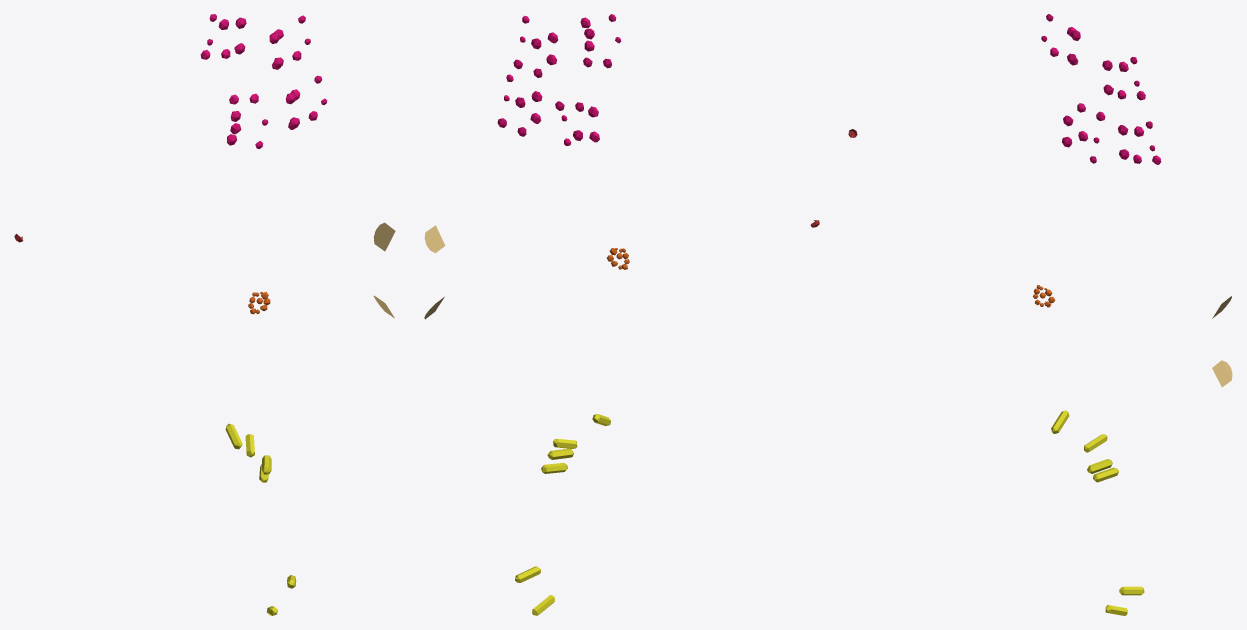
The model's file is house_light.fbx.
The picture shows the model from 3 angles, left to right: view 1: azimuth 30°, elevation 25°; view 2: azimuth 150°, elevation 25°; view 3: azimuth 330°, elevation 25°; orthographic projection. The views are drawn at different scales.
Visible parts, largest first — view 1: Cylinder002.005; view 2: Cylinder002.005; view 3: Cylinder002.005.
Part boxes in pixels (x1,y1,x2,y2): Cylinder002.005: [14, 14, 395, 615]; Cylinder002.005: [424, 14, 819, 615]; Cylinder002.005: [848, 14, 1232, 615].
Bounding box in the file's own units: 294 × 454 × 56.23.
